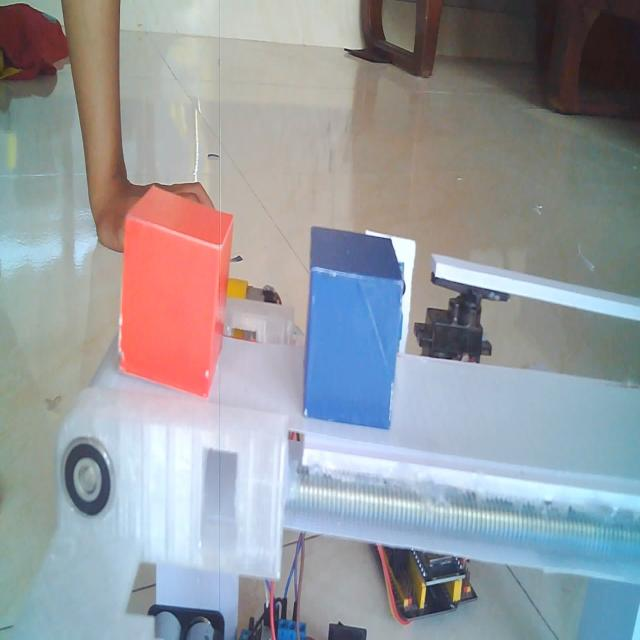blue: (302, 216, 406, 435)
red: (115, 175, 236, 403)
